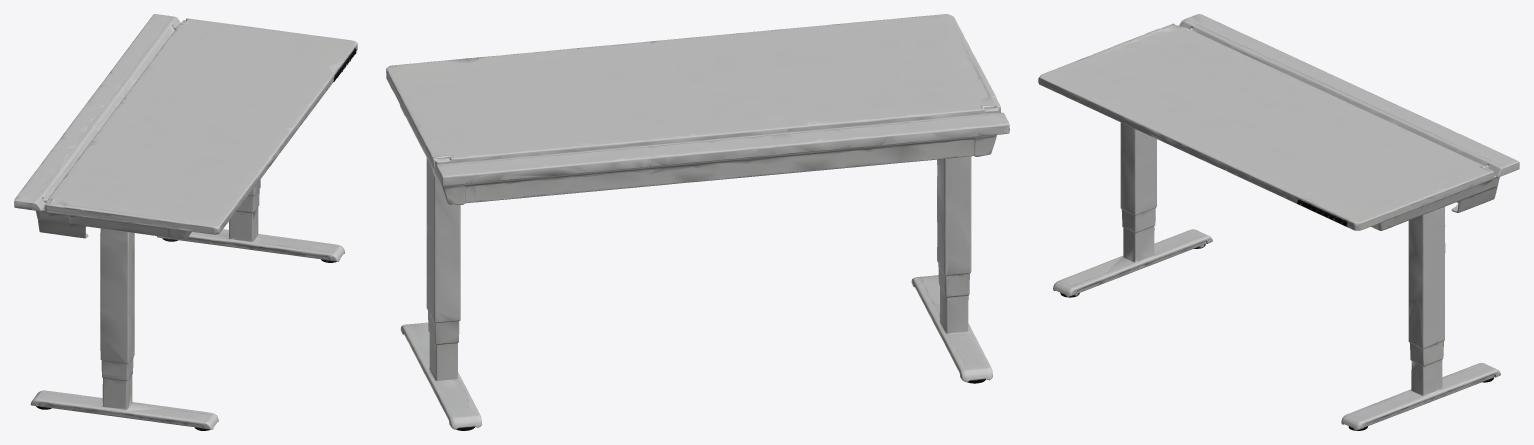
File: secretlab-co-products-secretlab-magnus-pro-box-1-white-1a2896.glb
3 views of the same model, side by side, from view 1: azimuth 30°, elevation 25°; view 2: azimuth 150°, elevation 25°; view 3: azimuth 270°, elevation 25° (orthographic). The views are drawn at different scales.
Parts seen in each view (by area): view 1: tripo_node_b07836c7-5e0c-4cf7-a92a-84d087427b60; view 2: tripo_node_b07836c7-5e0c-4cf7-a92a-84d087427b60; view 3: tripo_node_b07836c7-5e0c-4cf7-a92a-84d087427b60.
Part boxes in pixels (x1,y1,x2,y2): tripo_node_b07836c7-5e0c-4cf7-a92a-84d087427b60: (14, 14, 357, 430); tripo_node_b07836c7-5e0c-4cf7-a92a-84d087427b60: (386, 14, 1009, 430); tripo_node_b07836c7-5e0c-4cf7-a92a-84d087427b60: (1038, 14, 1519, 430).
Bounding box in the file's own units: 1.04 × 0.5048 × 1.01.
Materials: 1 (1 with a texture image).
